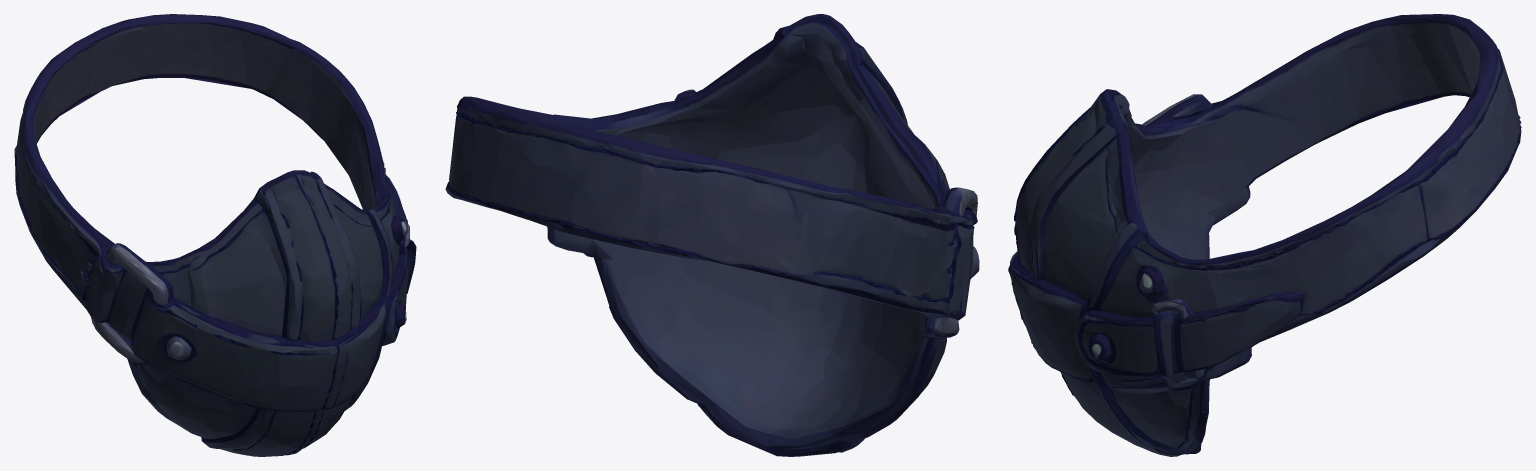
File: nerith_m-masque-5-museliere.glb
3 renders of one model, left to right at view 1: azimuth 30°, elevation 25°; view 2: azimuth 150°, elevation 25°; view 3: azimuth 270°, elevation 25°, orthographic. The views are drawn at different scales.
Parts seen in each view (by area): view 1: geometry_0; view 2: geometry_0; view 3: geometry_0.
Boxes of the visible parts, bbox=[...] form: geometry_0: bbox=[14, 14, 416, 456]; geometry_0: bbox=[445, 14, 979, 456]; geometry_0: bbox=[1008, 14, 1521, 456].
Size of the model in its own units: 1.64 by 1.6 by 1.9.
Materials: 1 (1 with a texture image).
